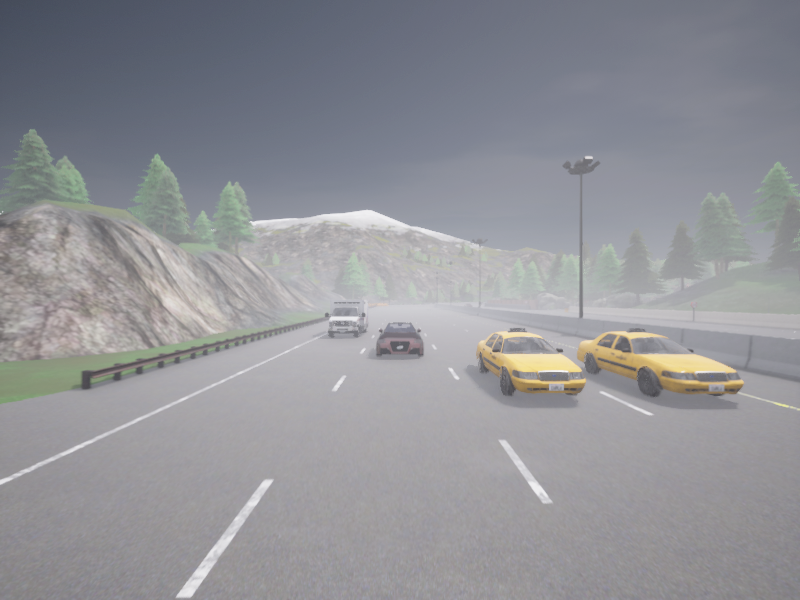vehicle: (577, 328, 743, 396), (476, 328, 585, 395), (325, 300, 368, 337), (376, 323, 423, 356), (464, 304, 471, 306), (480, 302, 484, 304)
